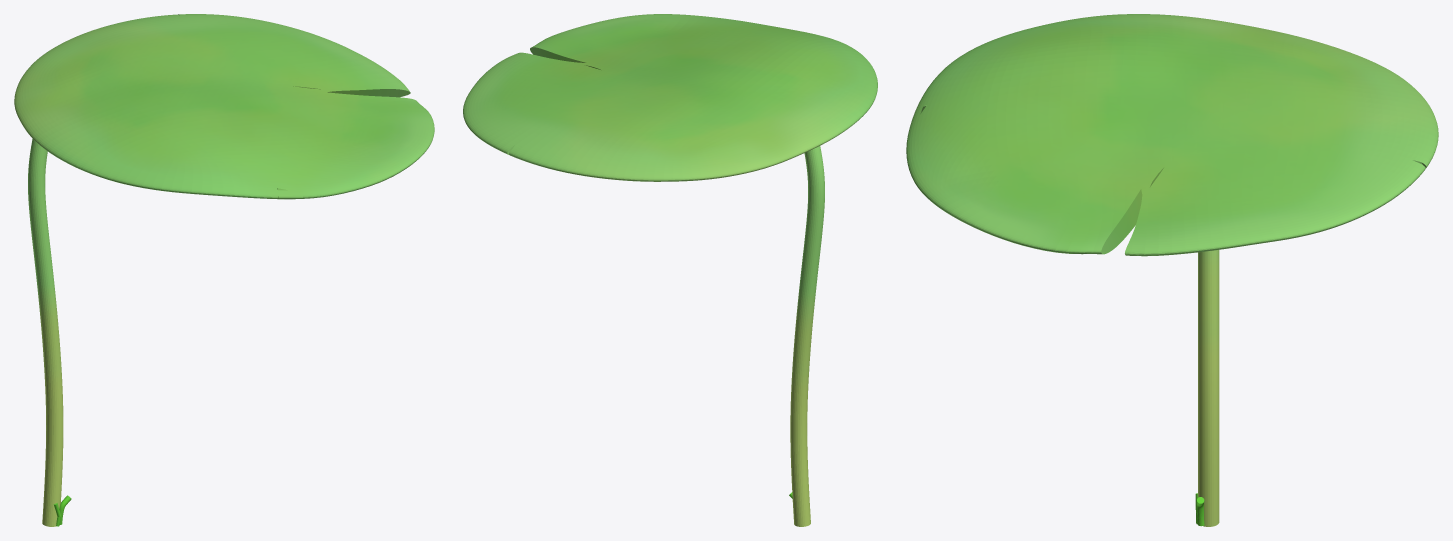
Rendered from largeLilypad.glb.
3 views of the same model, side by side, from view 1: azimuth 30°, elevation 25°; view 2: azimuth 150°, elevation 25°; view 3: azimuth 270°, elevation 25° (orthographic). The views are drawn at different scales.
Parts seen in each view (by area): view 1: Quad Sphere, Tube; view 2: Quad Sphere, Tube; view 3: Quad Sphere, Tube.
Boxes of the visible parts, x1,y1,x2,y2 form: Quad Sphere: (14, 14, 434, 199); Tube: (28, 138, 63, 526); Quad Sphere: (463, 14, 877, 181); Tube: (790, 146, 824, 526); Quad Sphere: (906, 14, 1438, 256); Tube: (1198, 250, 1219, 526).
Bounding box in the file's own units: 0.6927 × 0.7772 × 0.7276.
